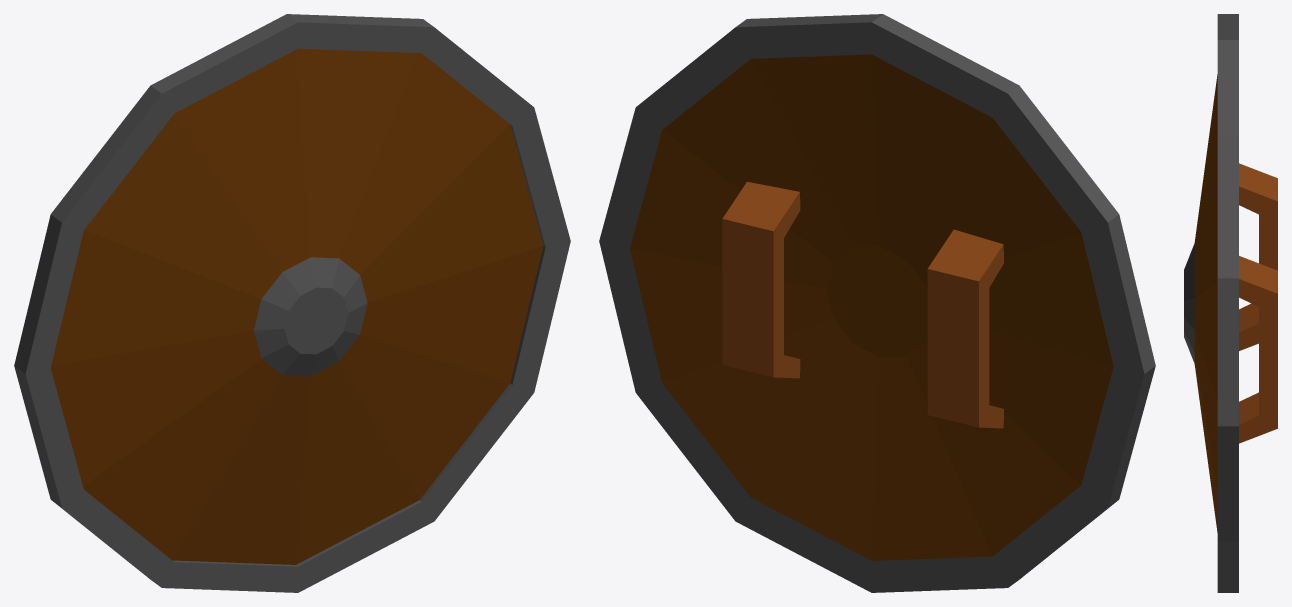
The model's file is Proto_Shield_Round_01.fbx.
3 views of the same model, side by side, from view 1: azimuth 30°, elevation 25°; view 2: azimuth 150°, elevation 25°; view 3: azimuth 270°, elevation 25° (orthographic). The views are drawn at different scales.
Visible parts, largest first — view 1: Proto_Shield_Round_01; view 2: Proto_Shield_Round_01; view 3: Proto_Shield_Round_01.
Part boxes in pixels (left/top/right/bottom): Proto_Shield_Round_01: left=14, top=14, right=570, bottom=592; Proto_Shield_Round_01: left=599, top=14, right=1155, bottom=592; Proto_Shield_Round_01: left=1184, top=14, right=1277, bottom=592.
Size of the model in its own units: 0.5521 by 0.5521 by 0.0891.
